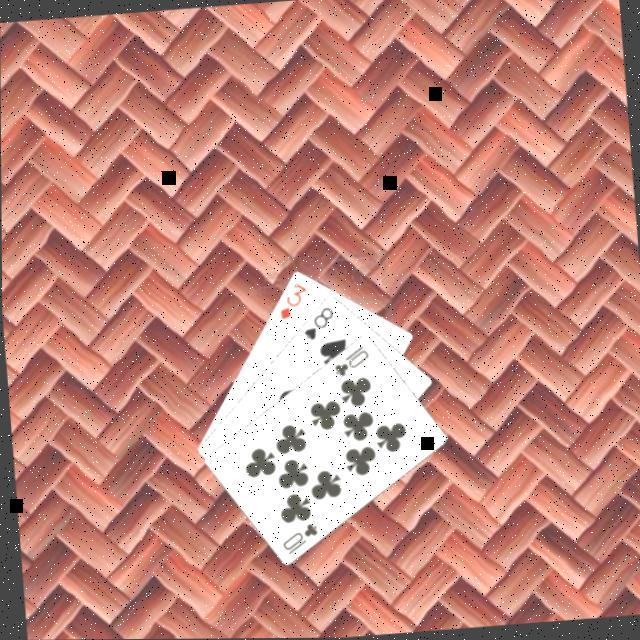10C: (277, 520, 322, 558), (330, 342, 372, 381)
3D: (274, 280, 312, 324)
8S: (298, 304, 339, 344)
